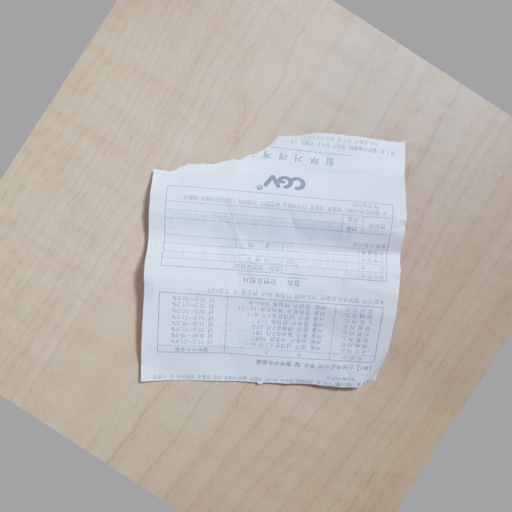Paper_2: (133, 128, 417, 408)
